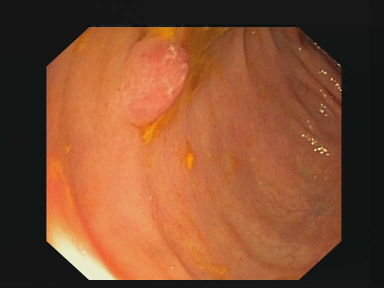polyp: (115, 28, 215, 140)
